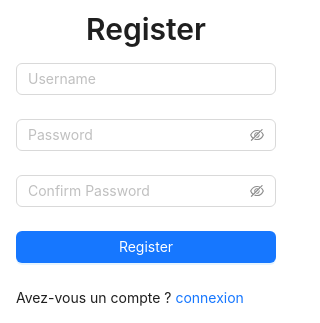
Test: Register Component Tests › shows validation messages for empty inputs
The image size is (320, 323).
Click the button "Register". click: {"x": 146, "y": 247}
box: x1=16 y1=231 x2=276 y2=263
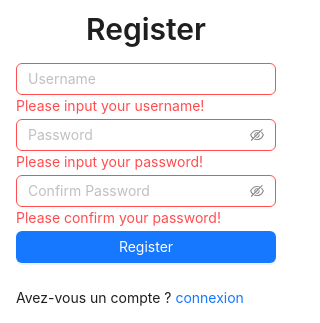
Now the text "Please input your username!" is shown, box x1=16 y1=97 x2=204 y2=114
Now the text "Please input your password!" is shown, box x1=16 y1=153 x2=203 y2=170
Now the text "Please confirm your password!" is shown, box x1=16 y1=209 x2=221 y2=226
